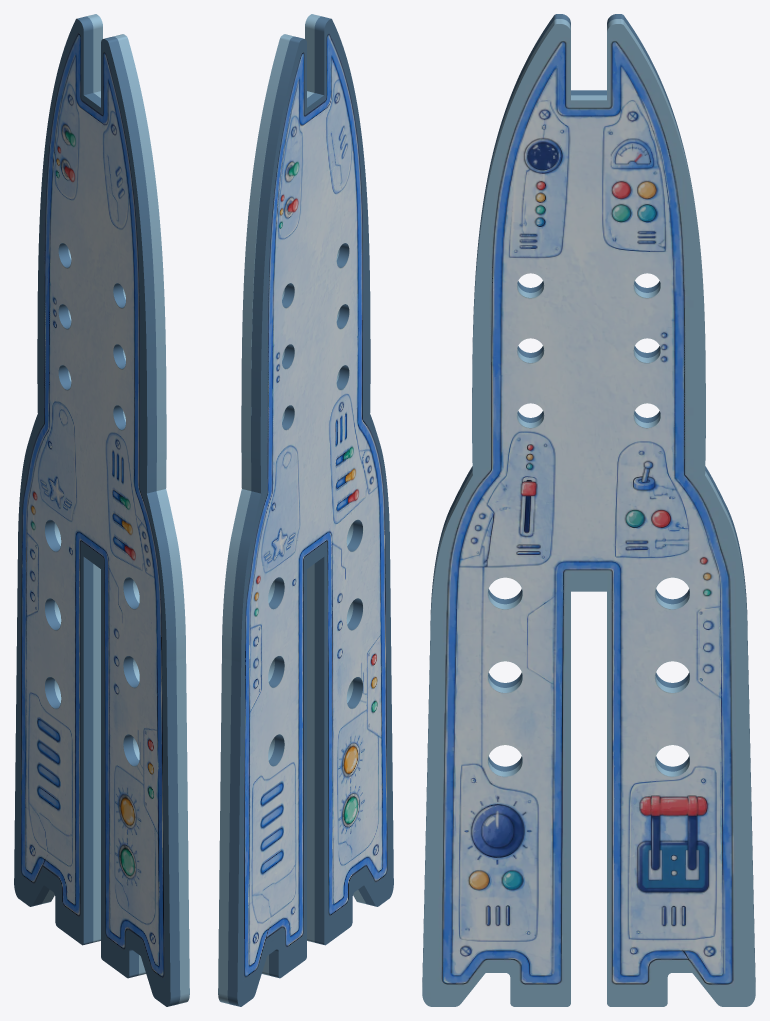
File: connector-2.glb
The picture shows the model from 3 angles, left to right: view 1: azimuth 30°, elevation 25°; view 2: azimuth 150°, elevation 25°; view 3: azimuth 270°, elevation 25°; orthographic projection. The views are drawn at different scales.
Visible parts, largest first — view 1: connector-2; view 2: connector-2; view 3: connector-2.
Part boxes in pixels (left/top/right/bottom): connector-2: left=14, top=14, right=189, bottom=1006; connector-2: left=218, top=14, right=393, bottom=1006; connector-2: left=422, top=14, right=755, bottom=1006.
Bounding box in the file's own units: 24 × 1095 × 337.
Materials: 4 (2 with a texture image).
